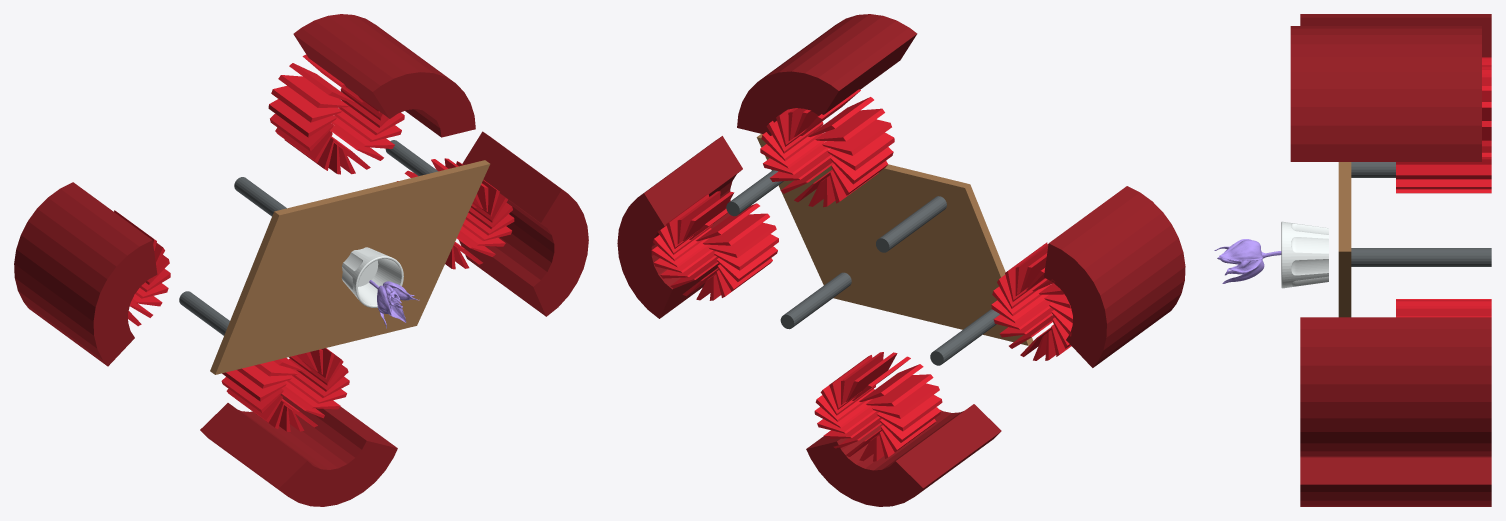
The model's file is tinker.obj.
3 renders of one model, left to right at view 1: azimuth 30°, elevation 25°; view 2: azimuth 150°, elevation 25°; view 3: azimuth 270°, elevation 25°, orthographic. The views are drawn at different scales.
Parts seen in each view (by area): view 1: obj_0, obj_5, obj_8, obj_7, obj_6, obj_4, obj_1, obj_2, obj_10, obj_3, obj_9; view 2: obj_0, obj_5, obj_6, obj_4, obj_8, obj_1, obj_7, obj_2, obj_3; view 3: obj_7, obj_6, obj_8, obj_0, obj_4, obj_10, obj_5, obj_2, obj_9.
Boxes of the visible parts, box(x1,y1,x2,y2) form: obj_0: box(179, 140, 490, 374); obj_5: box(14, 182, 157, 366); obj_8: box(200, 394, 397, 506); obj_7: box(459, 131, 588, 316); obj_6: box(293, 14, 475, 137); obj_4: box(268, 54, 404, 174); obj_1: box(221, 348, 349, 431); obj_2: box(397, 158, 514, 269); obj_10: box(342, 247, 403, 307); obj_3: box(114, 210, 170, 326); obj_9: box(369, 280, 419, 328); obj_0: box(726, 134, 1033, 365); obj_5: box(1044, 186, 1185, 367); obj_6: box(737, 14, 917, 135); obj_4: box(760, 89, 894, 207); obj_8: box(806, 404, 1001, 506); obj_1: box(814, 352, 942, 461); obj_7: box(617, 136, 742, 318); obj_2: box(651, 191, 778, 300); obj_3: box(991, 242, 1072, 360); obj_7: box(1300, 317, 1491, 457); obj_6: box(1290, 26, 1481, 161); obj_8: box(1300, 457, 1491, 506); obj_0: box(1338, 162, 1491, 317); obj_4: box(1396, 67, 1491, 193); obj_10: box(1281, 221, 1328, 288); obj_5: box(1300, 14, 1491, 57); obj_2: box(1396, 299, 1491, 317); obj_9: box(1214, 239, 1281, 283).
Bounding box in the file's own units: 72 × 58 × 29.
